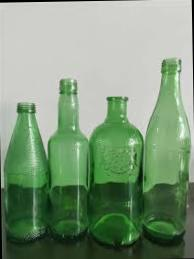glass: (130, 45, 194, 247), (37, 68, 95, 242), (0, 84, 50, 257)
